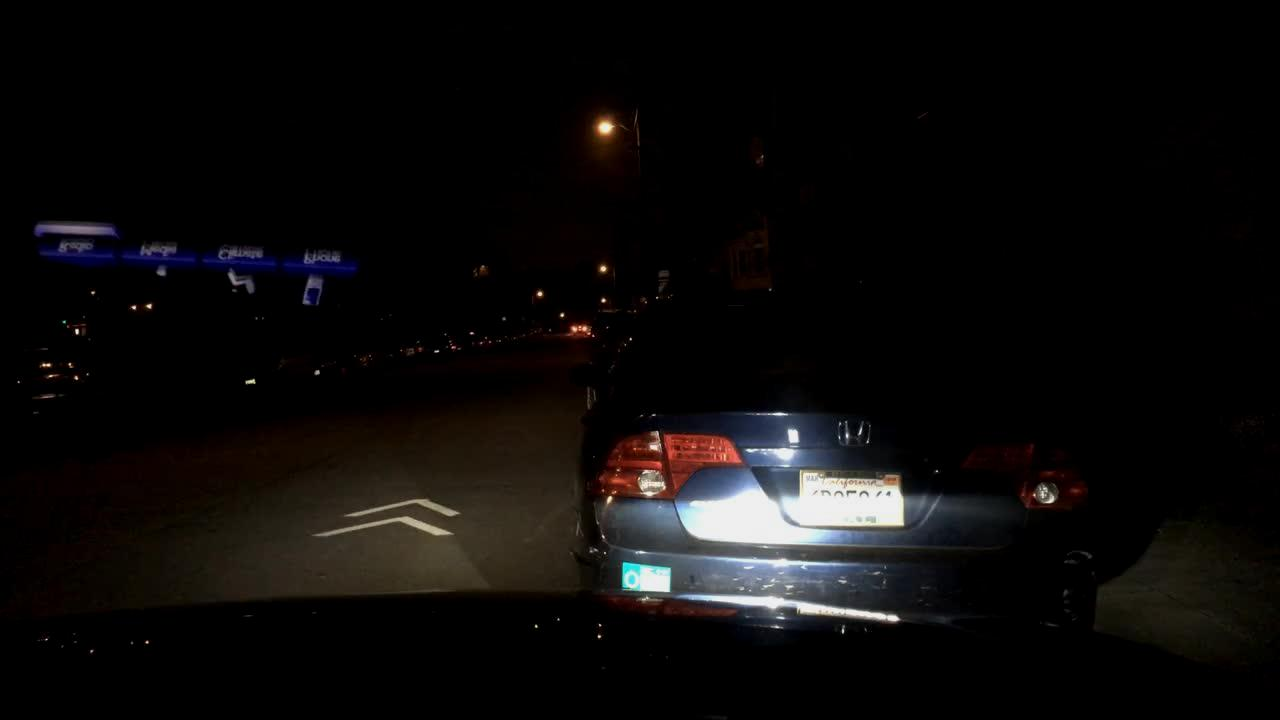Honda: (828, 405, 887, 457)
